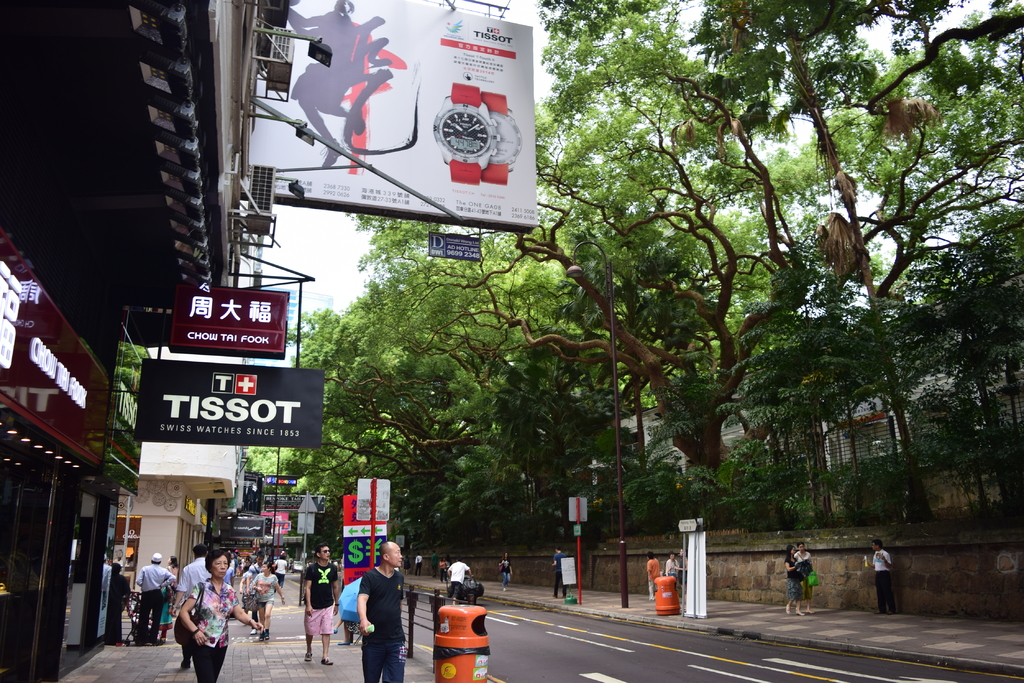cantilever: (254, 1, 540, 227), (136, 357, 320, 447), (174, 280, 289, 352)
signboard: (1, 237, 118, 475)
